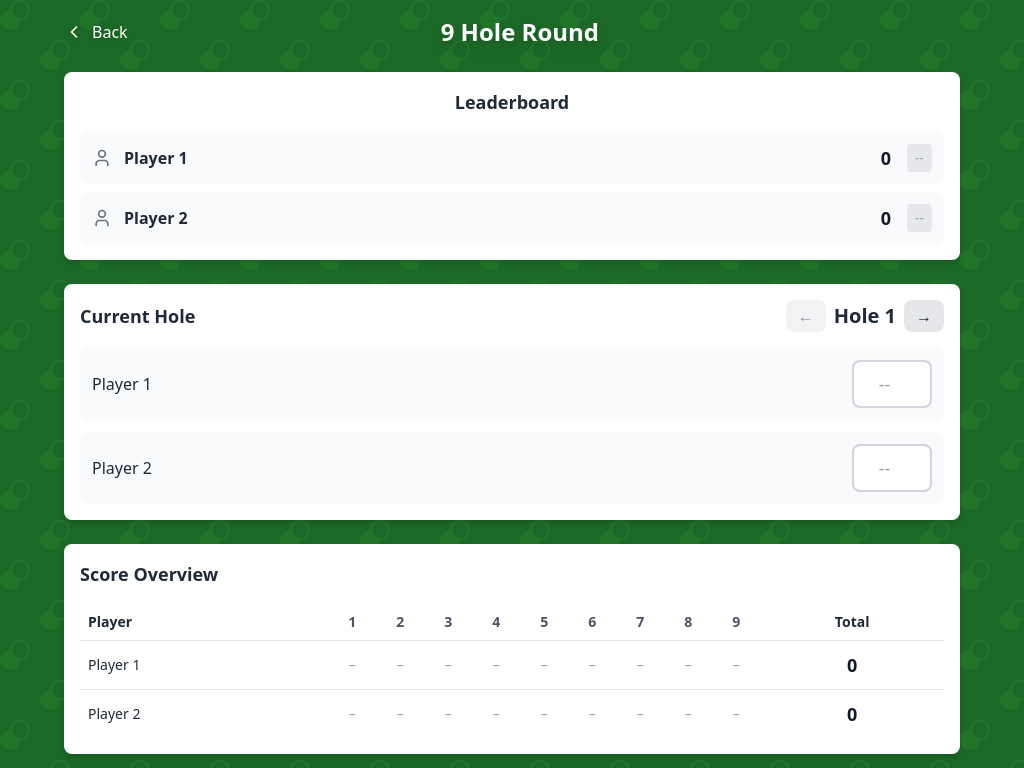
Scenario: ScoreCard Multiplayer Component › Hole Navigation › navigates between holes correctly
The width and height of the screenshot is (1024, 768).
Expected: the text "Hole 1" is shown, [834, 302, 896, 330]
# Navigate to next hole
Click the button "→" at x=924, y=316, box [904, 300, 944, 332]
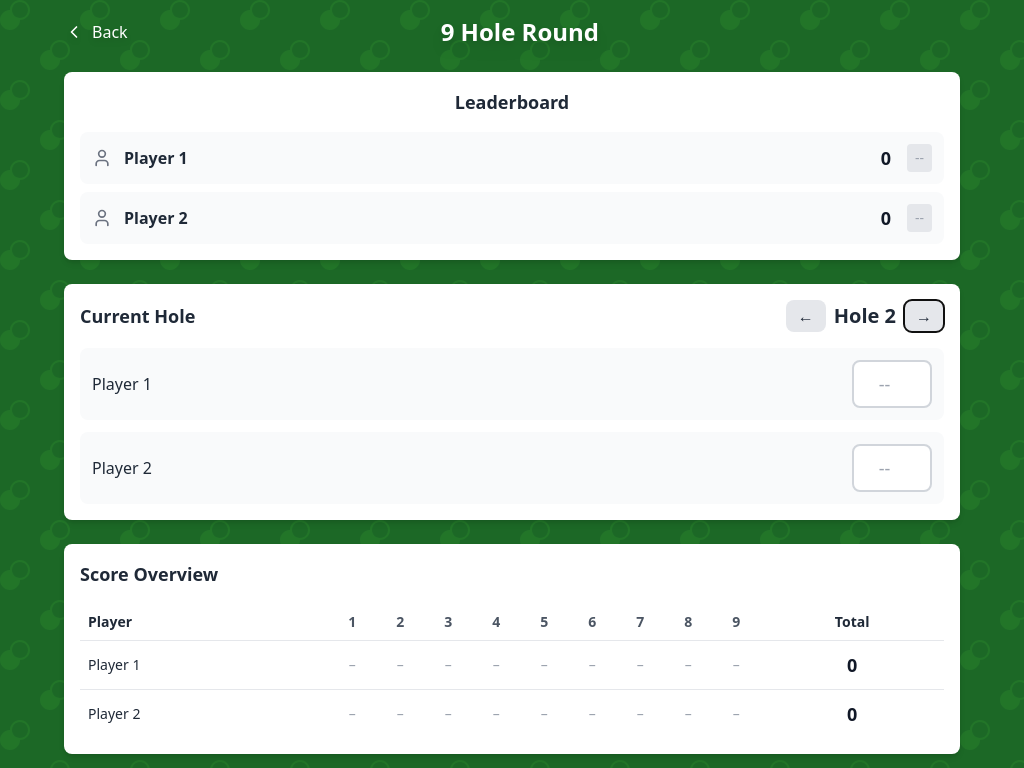
Expected: the text "Hole 2" is shown, [834, 302, 896, 330]
# Navigate back
Click the button "←" at x=806, y=316, box [786, 300, 826, 332]
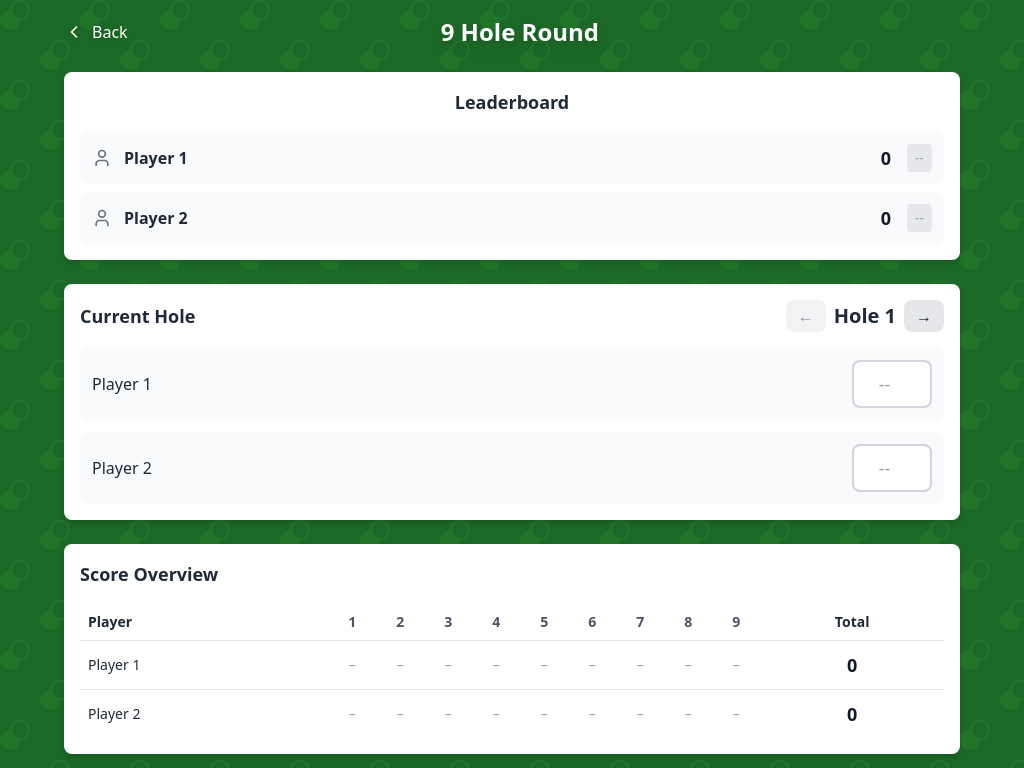
Expected: the text "Hole 1" is shown, [834, 302, 896, 330]
